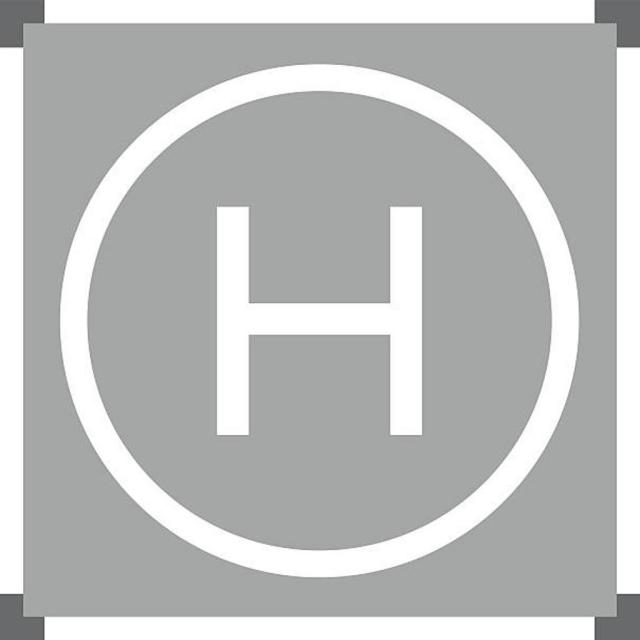helipad: (57, 60, 582, 579)
